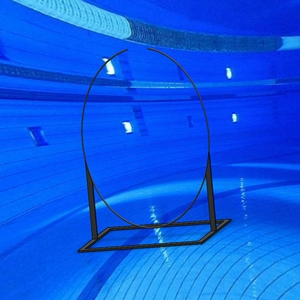circle: (77, 46, 232, 253)
